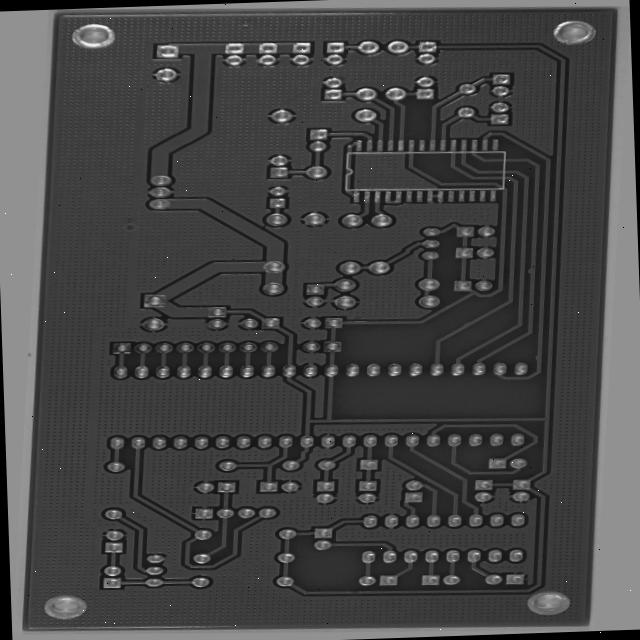spur: (468, 312, 491, 325), (537, 255, 552, 269), (553, 345, 570, 355)
